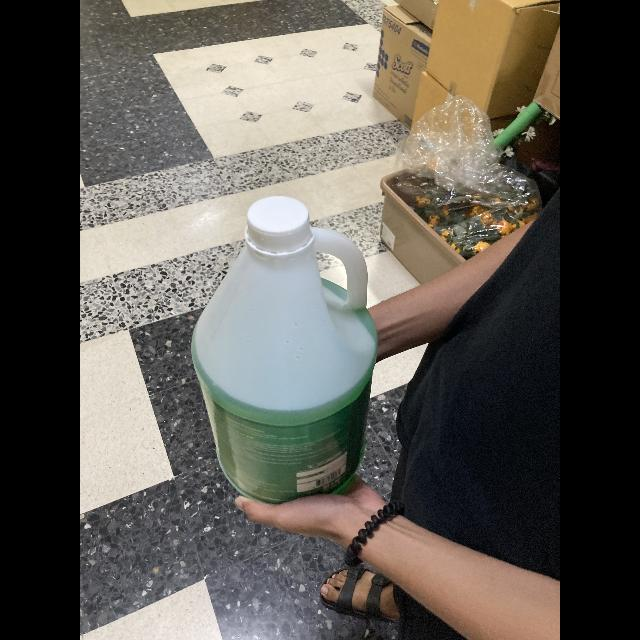chemical_plastic_gallon: (188, 192, 376, 503)
